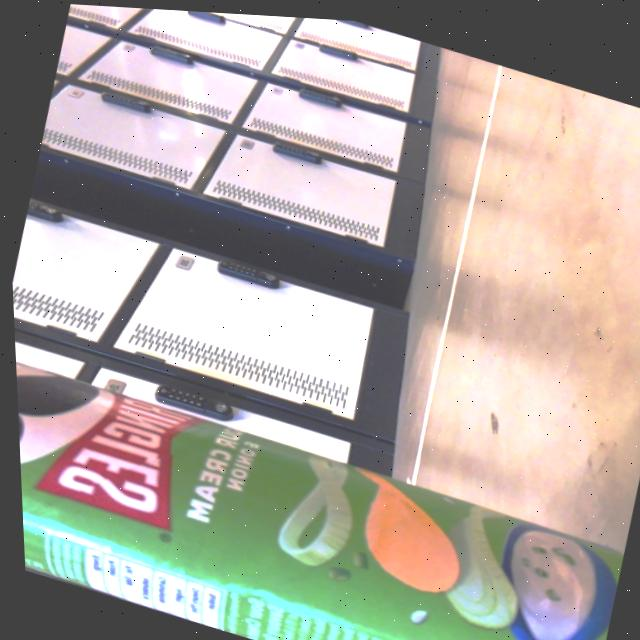greenpringles: (12, 344, 627, 640)
